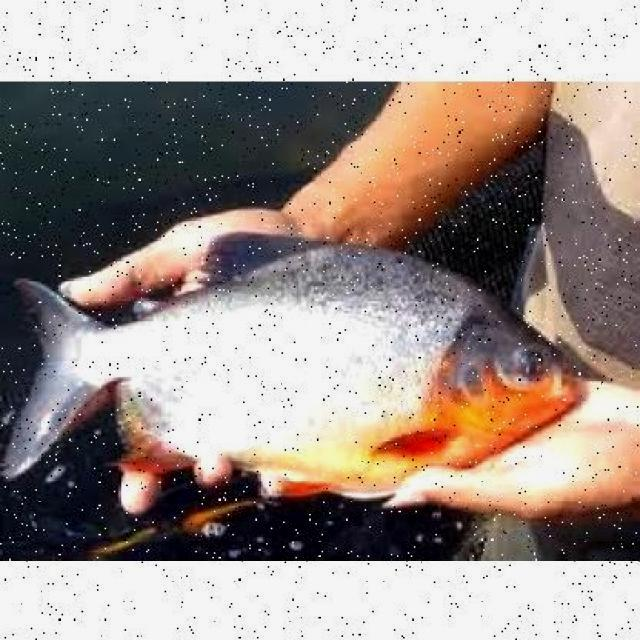ikan-pacu: (0, 228, 582, 480)
